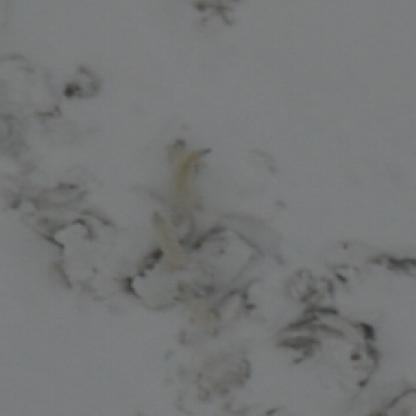polar-bear: (165, 137, 212, 211), (149, 208, 189, 268), (171, 283, 215, 322)
